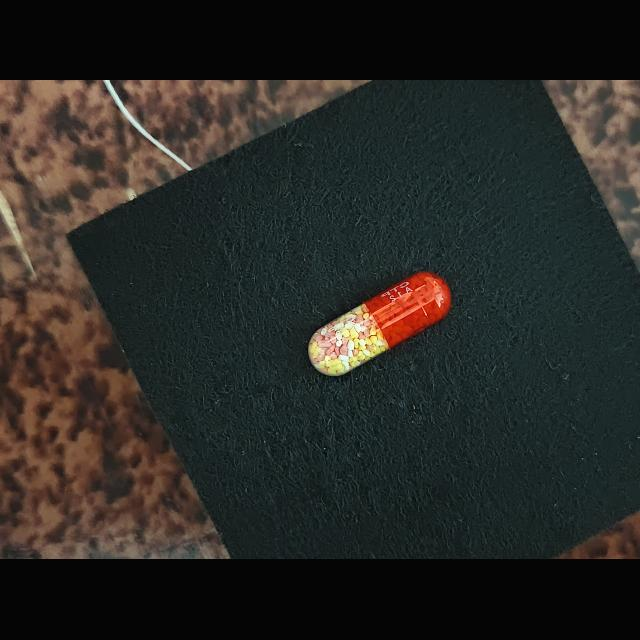Intact Capsule: (308, 272, 451, 377)
